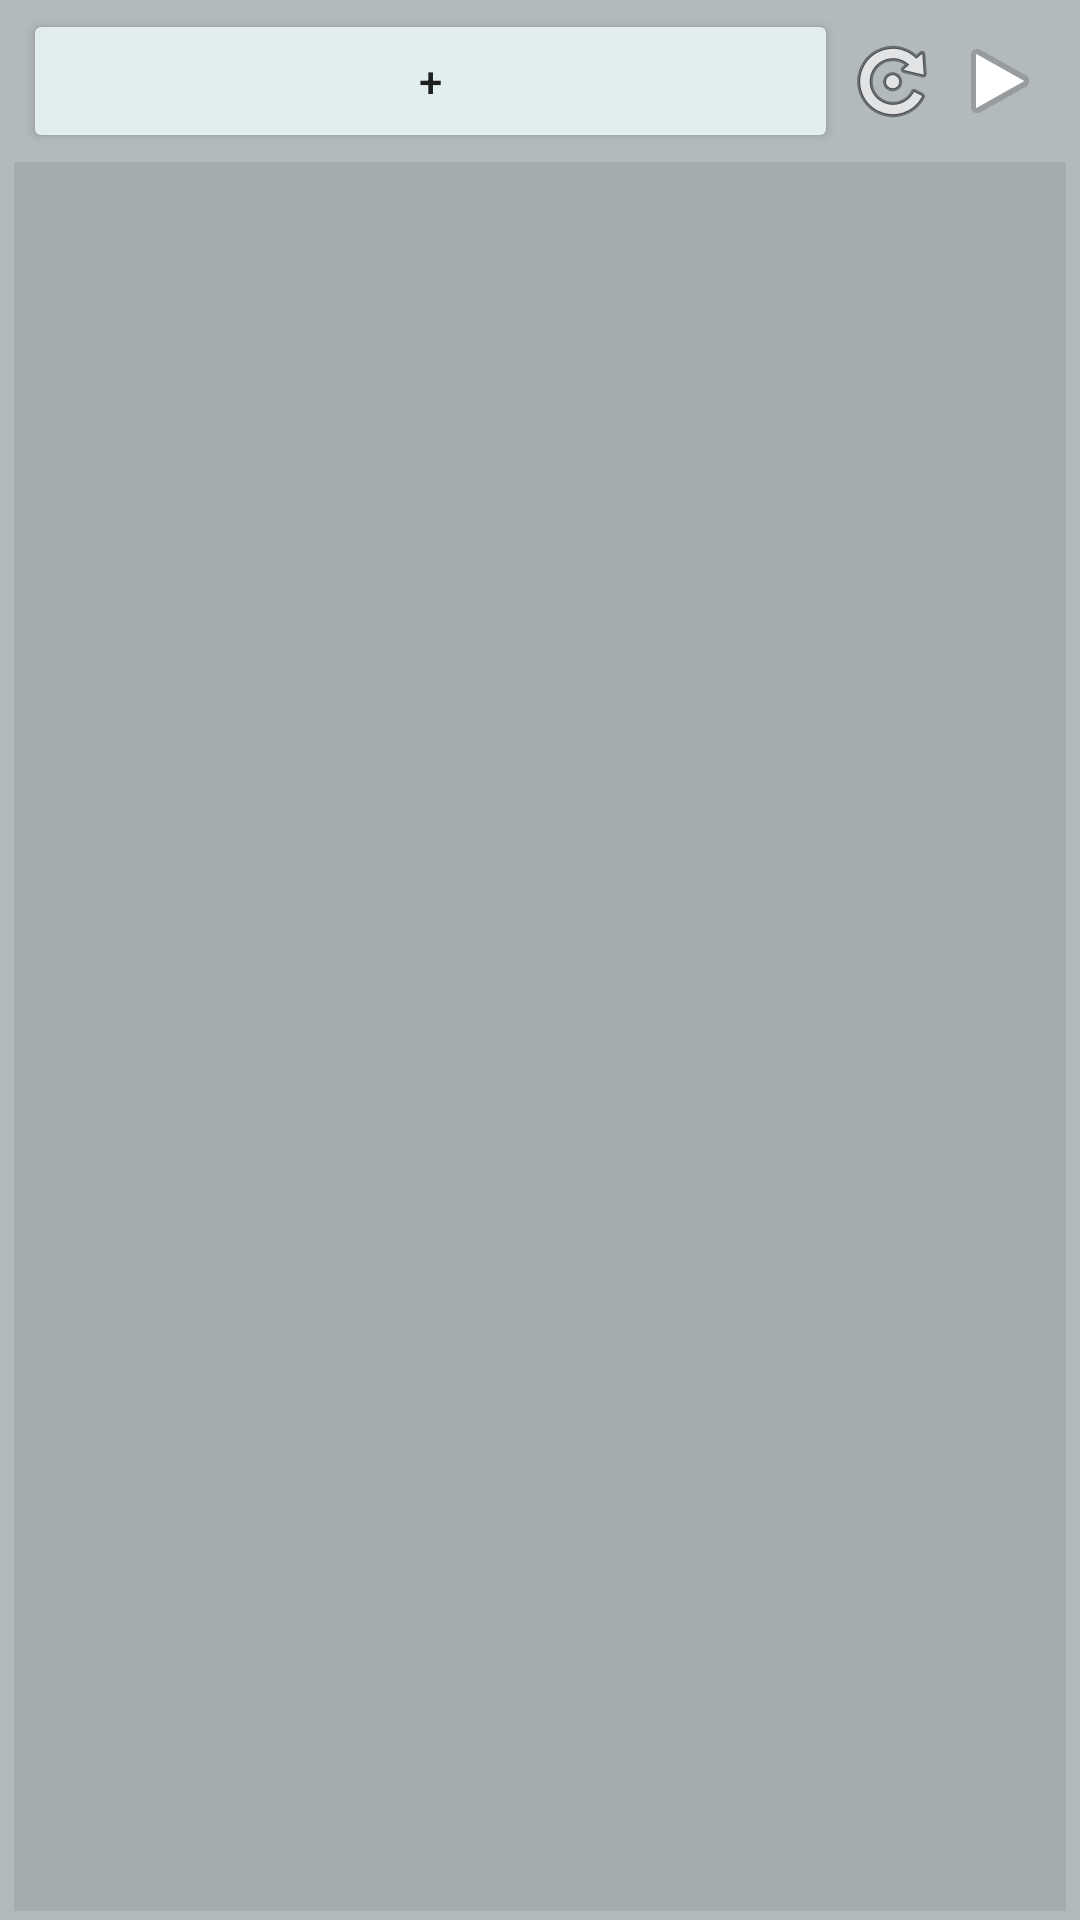

Where icons sit on this 1080×1920 app screen, as (x1, y1, x2, y2):
play: (971, 49, 1029, 113)
rotate: (857, 46, 927, 117)
